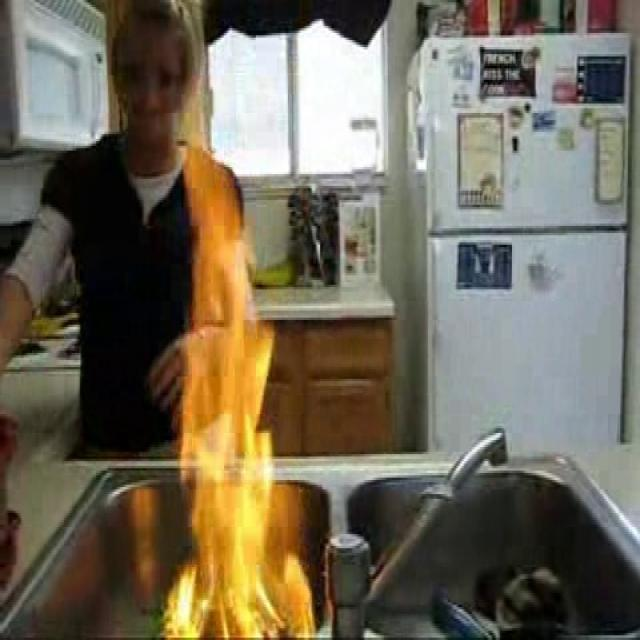fire: (172, 117, 302, 622)
